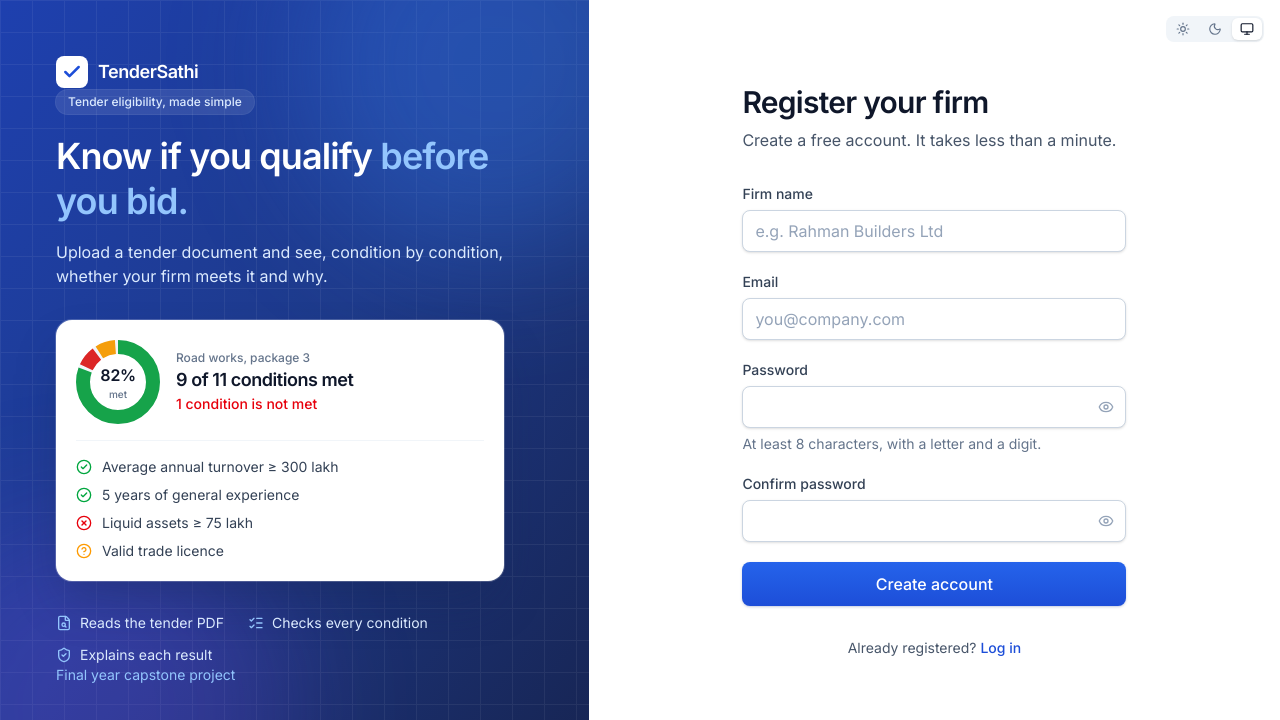
Test: RegisterPage validation › rejects an email address that is not valid
The width and height of the screenshot is (1280, 720).
Step 1. Type "Rahman Builders" into the field labelled "Firm name" → (934, 230), box top-left (742, 210), bottom-right (1126, 252)
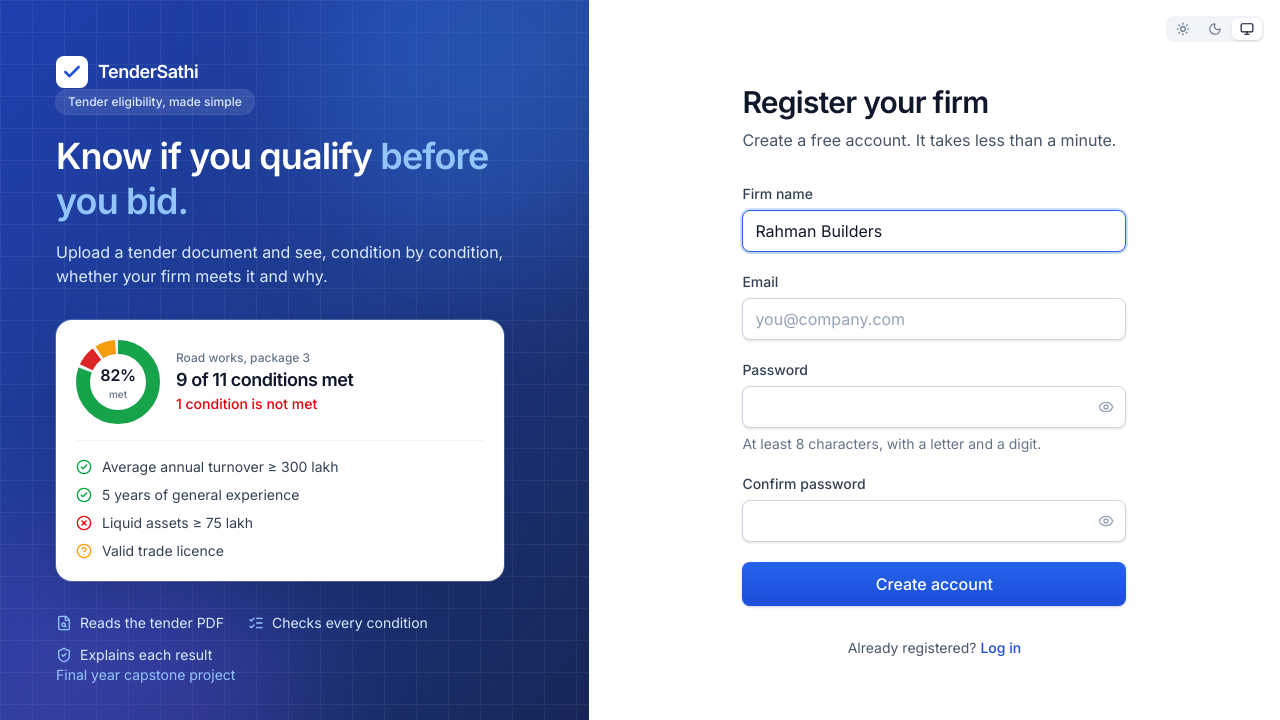
Step 2. Type "owner@example" into the field labelled "Email" → (934, 318), box top-left (742, 298), bottom-right (1126, 340)
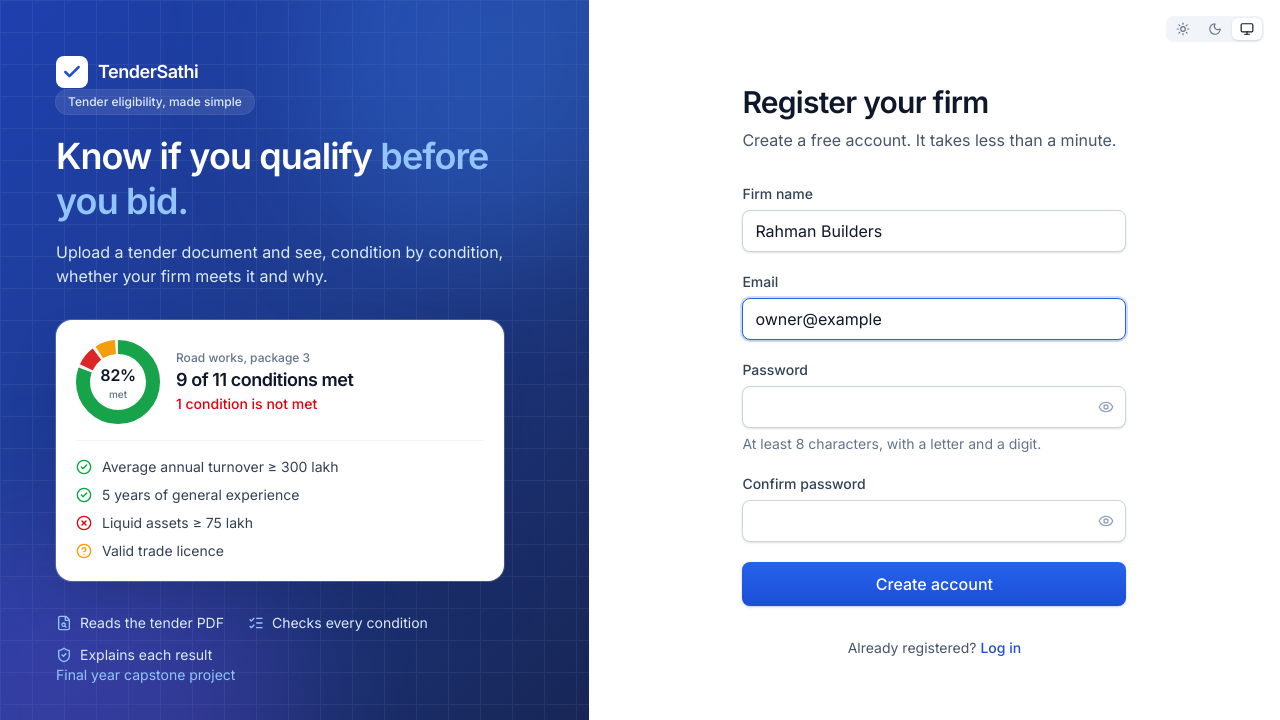
Step 3. Type "secret123" into the password field labelled "Password" → (934, 406), box top-left (742, 386), bottom-right (1126, 428)
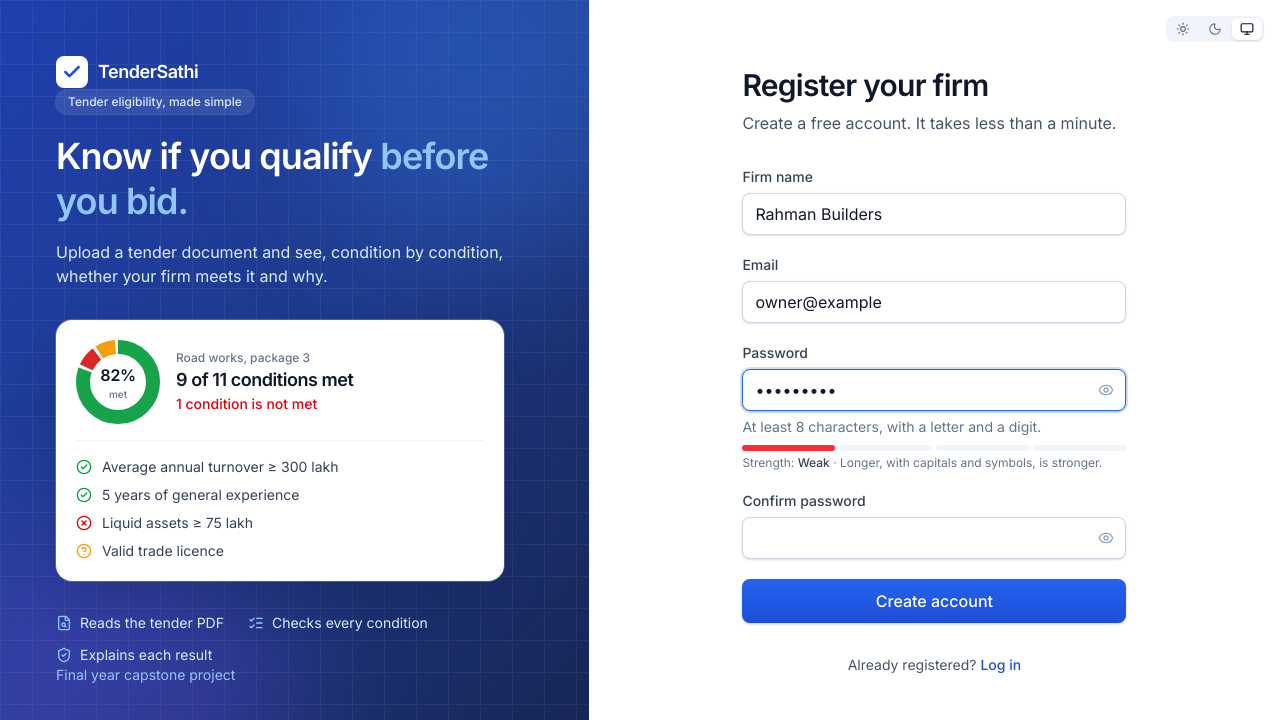
Step 4. Type "secret123" into the password field labelled "Confirm password" → (934, 538), box top-left (742, 516), bottom-right (1126, 558)
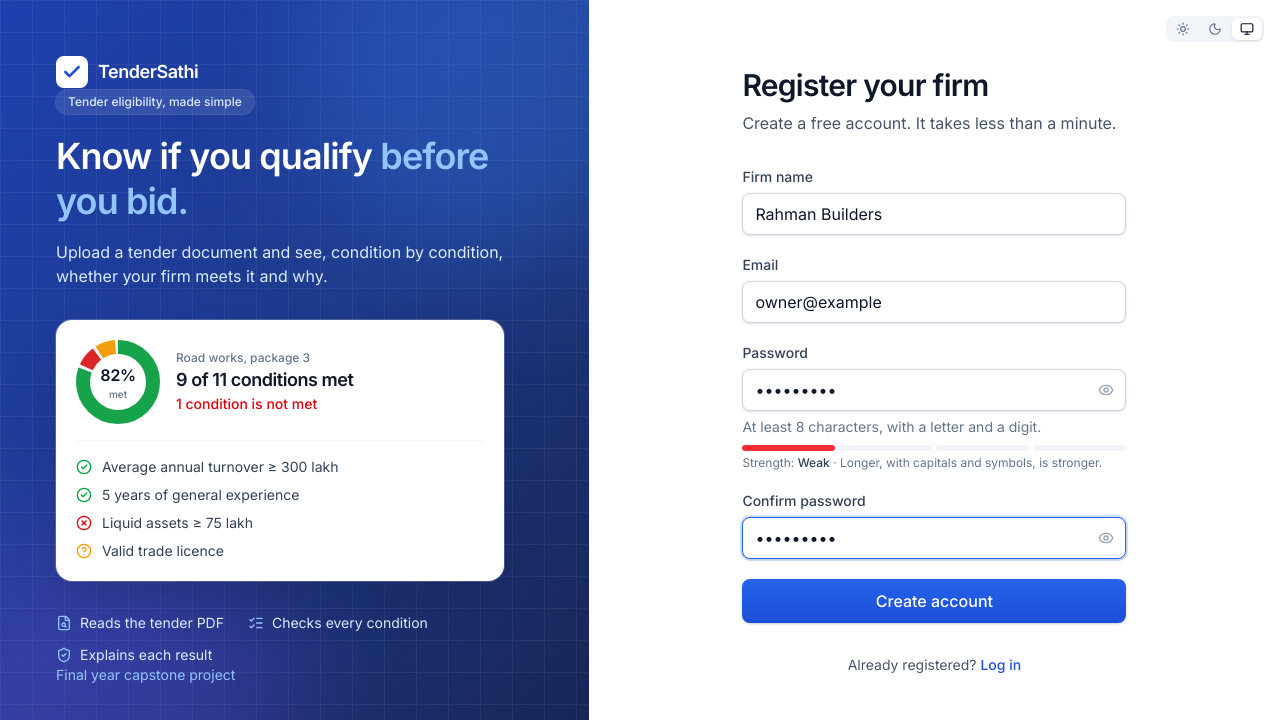
Step 5. Click the button "Create account" → (934, 600), box top-left (742, 578), bottom-right (1126, 622)
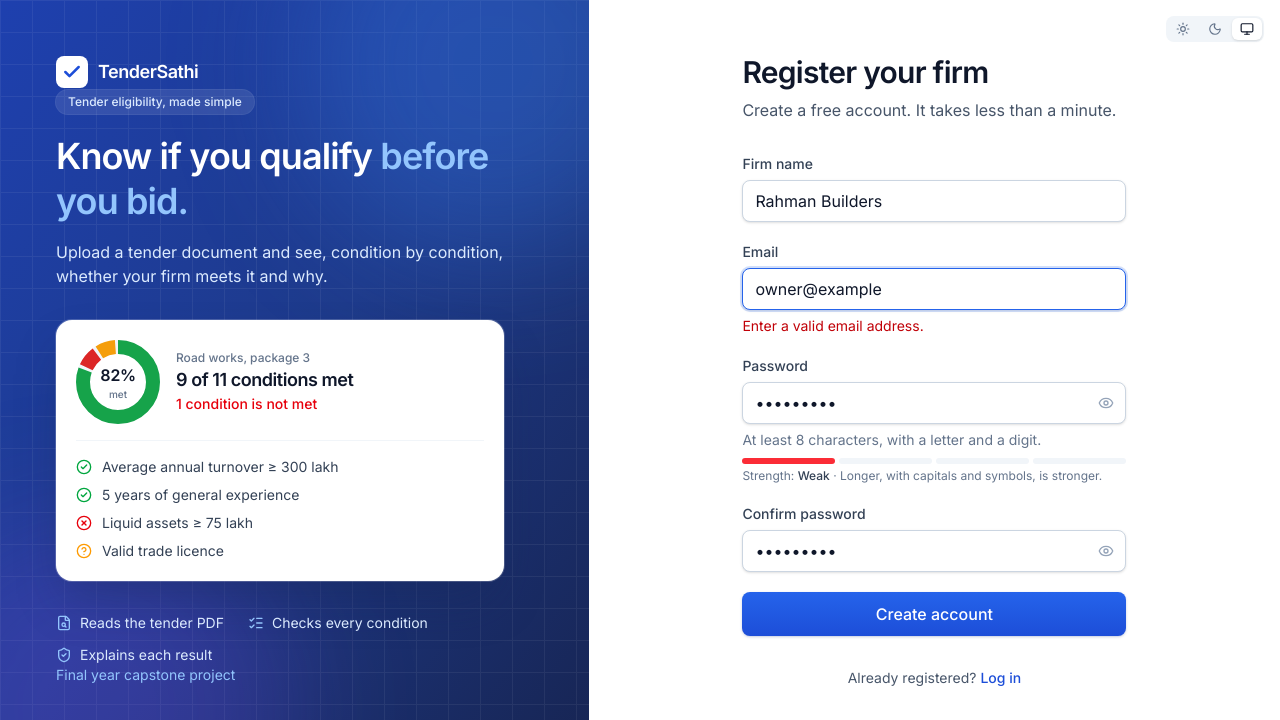
Expected: the text "Enter a valid email address." is shown, top-left (742, 316), bottom-right (924, 334)
